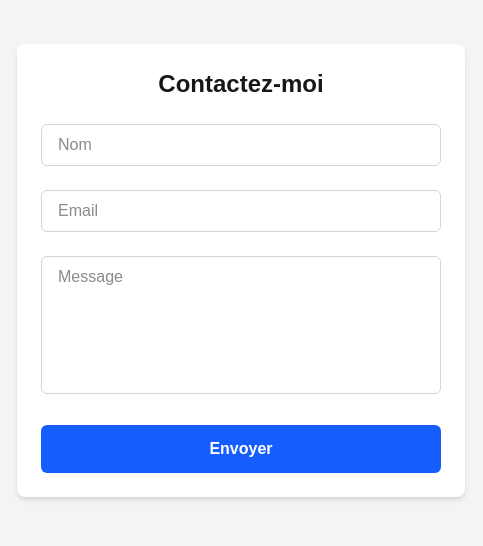
Test: ContactForm › allows user to fill in and submit form
Type "John" into the field with placeholder "Nom" at (241, 144), box [41,124,441,166]
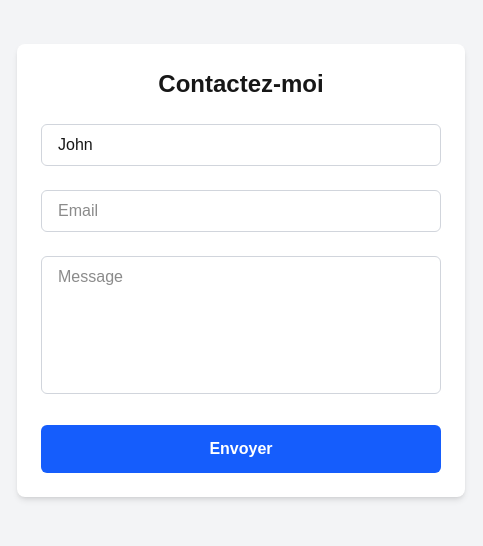
Type "john@example.com" into the field with placeholder "Email" at (241, 210), box [41,190,441,232]
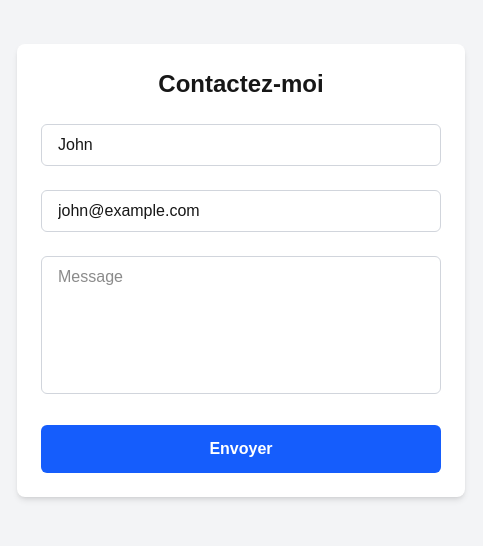
Type "Hello there!" into the text box with placeholder "Message" at (241, 324), box [41,256,441,394]
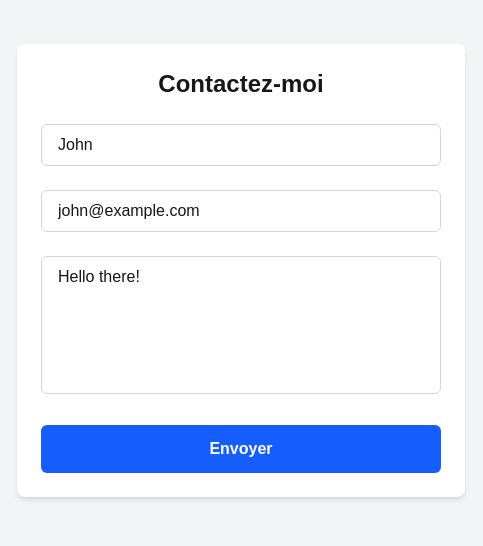
Click the button "Envoyer" at (241, 448), box [41,424,441,472]
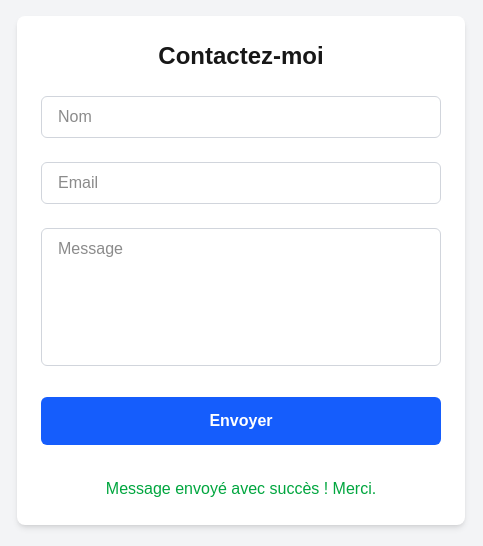
Now the text "Message envoyé avec succès ! Merci." is shown, box [106,480,376,496]
Now the field with placeholder "Nom" is empty, box [41,96,441,138]
Now the field with placeholder "Email" is empty, box [41,162,441,204]
